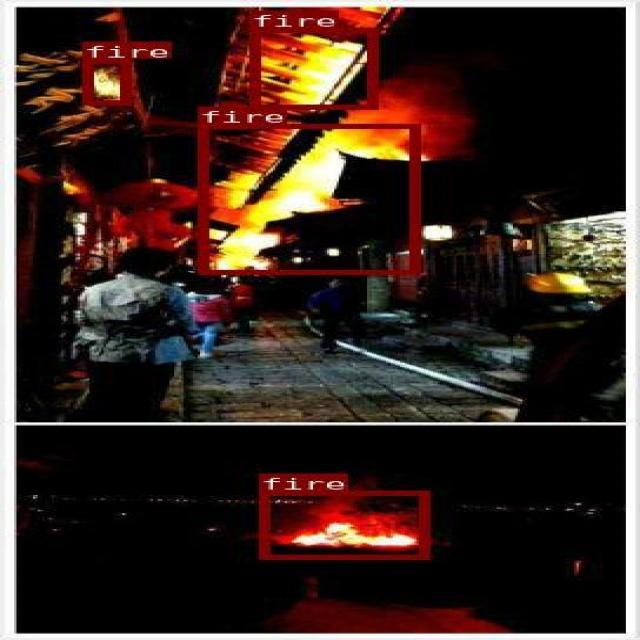fire: (197, 124, 418, 274), (258, 490, 426, 558), (247, 28, 376, 109), (81, 58, 128, 104)
